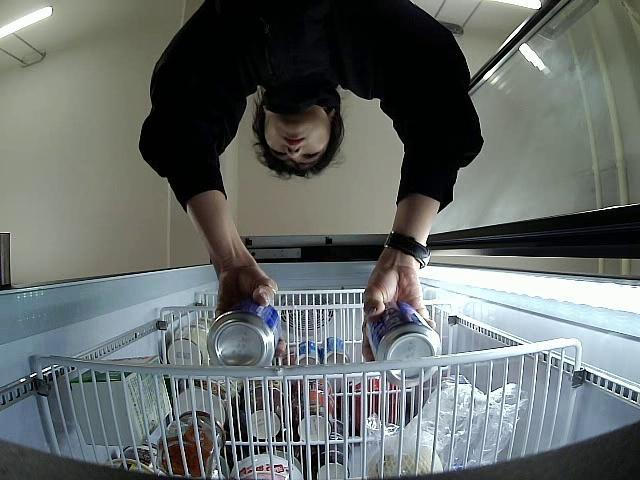13_pocariSweat: (365, 301, 443, 389), (206, 297, 282, 367)
